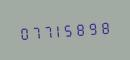eight: (77, 19, 88, 38), (101, 17, 112, 36)
five: (65, 19, 76, 39)
nine: (89, 18, 100, 37)
one: (53, 20, 64, 40)
seven: (29, 22, 40, 41), (41, 21, 52, 40)
zero: (17, 23, 28, 42)
